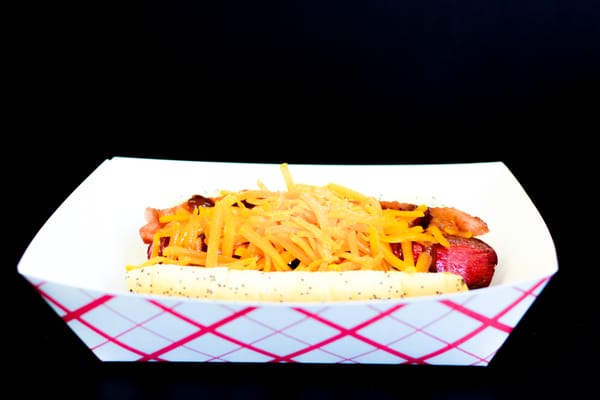burger: (125, 184, 493, 304)
